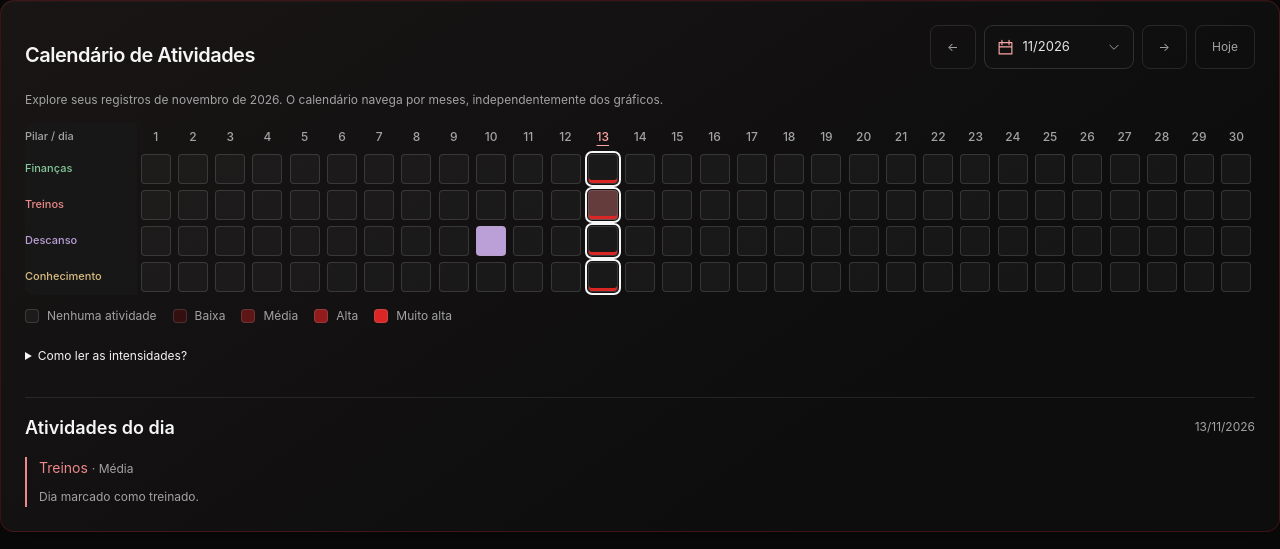
Test case: Arraste do Calendário de Atividades › trata movimentos curtos como clique e seleciona o dia
Press the mouse on the button named "Descanso, 10/11/2026: Muito alta" at (491, 241), box x1=472 y1=223 x2=510 y2=259
Click the button named "Descanso, 10/11/2026: Muito alta" at (491, 241), box x1=472 y1=223 x2=510 y2=259
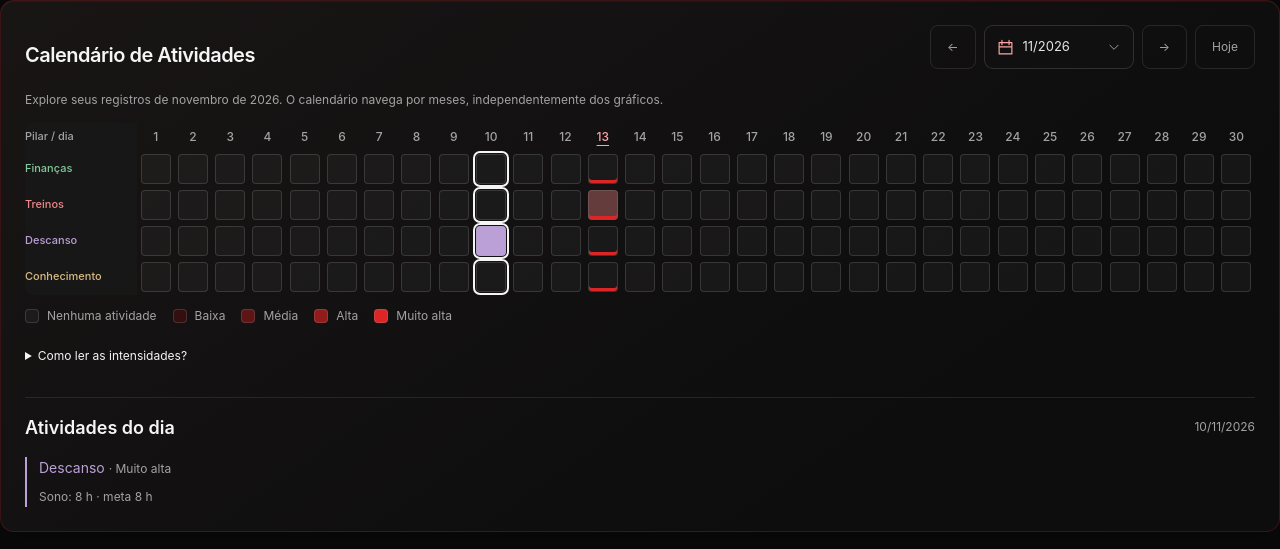
Check: the element "Atividades do dia" shows "10/11/2026", box x1=1194 y1=419 x2=1255 y2=434
